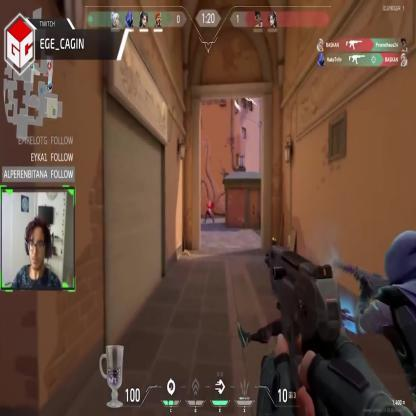enemy: (204, 196, 214, 225)
enemy_head: (208, 197, 210, 203)
